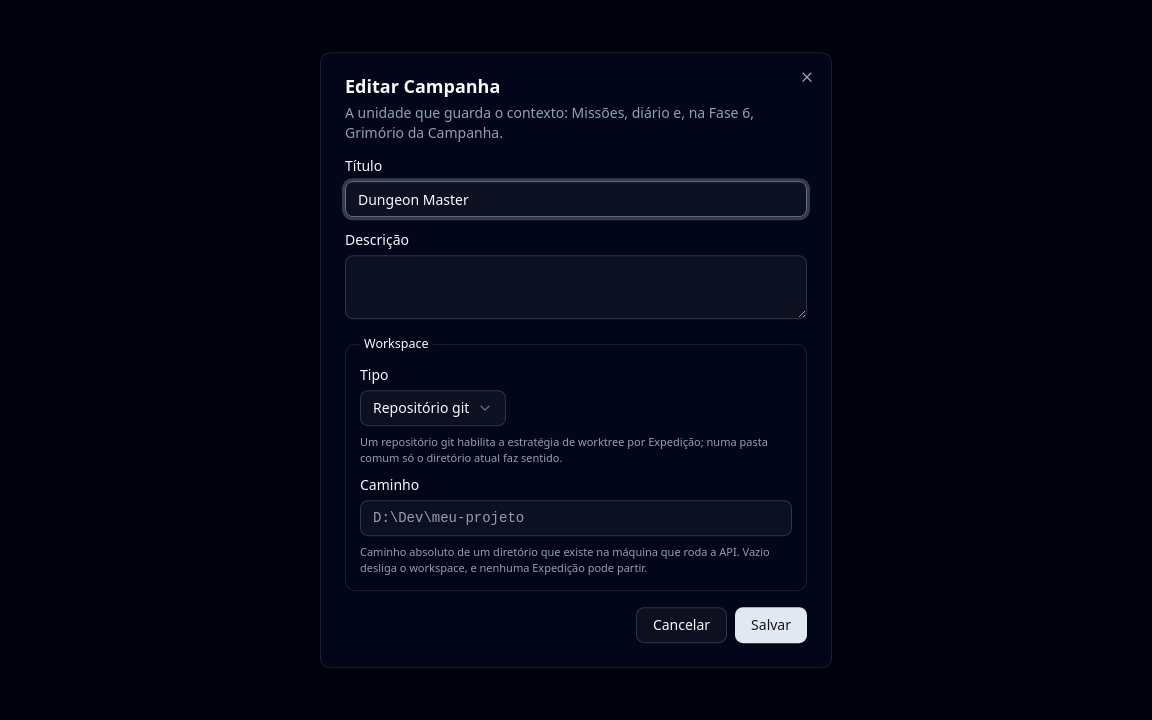
diálogo de Project › recusa um caminho relativo sem ir ao servidor
Type "./repos/forja" into the field labelled "Caminho" at (576, 518), box [360,500,792,536]
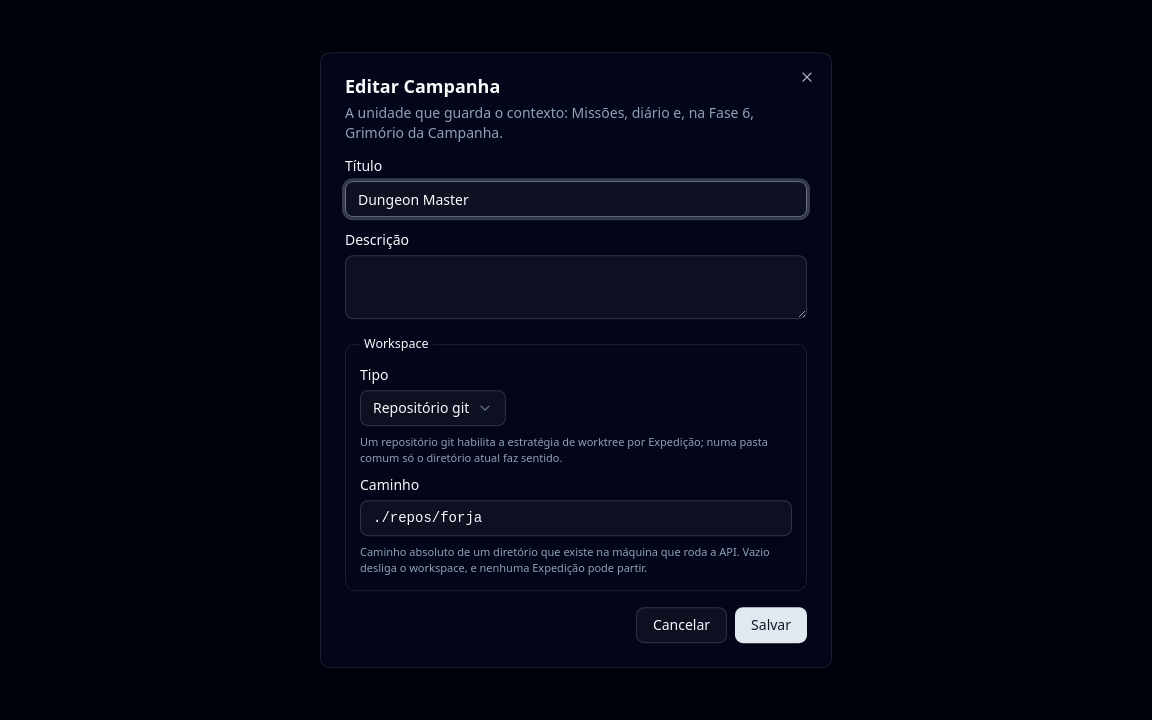
Click the button "Salvar" at (771, 625), box [735,607,807,643]
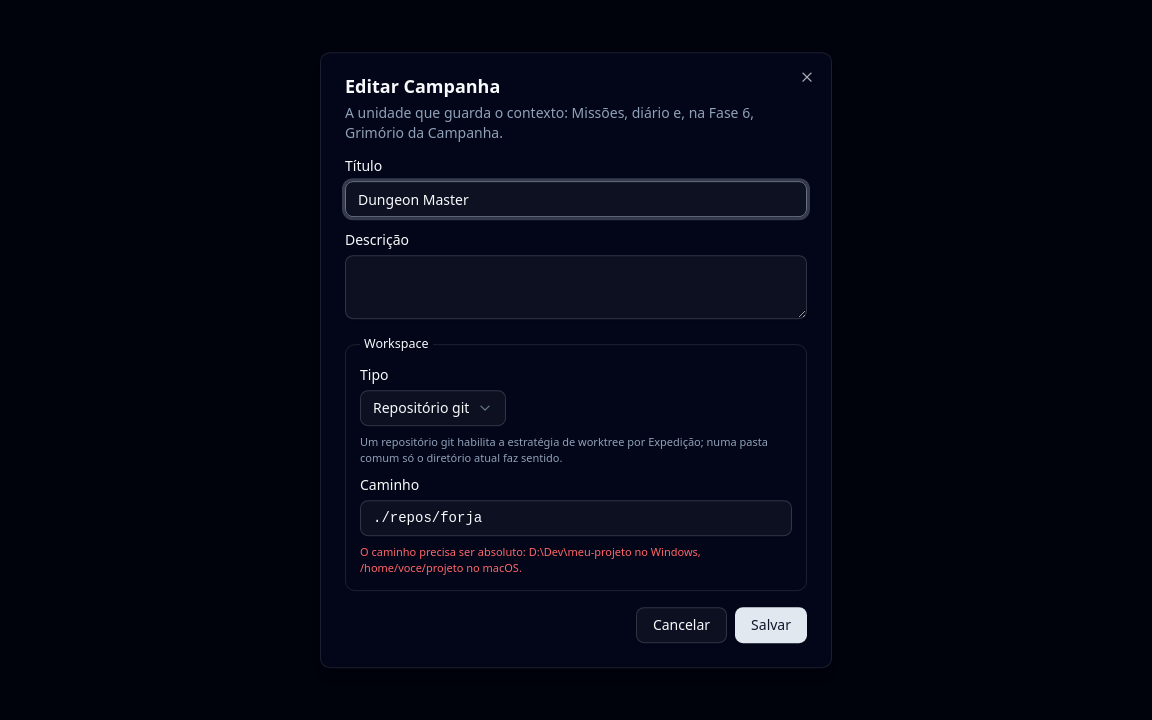
Expected: the message shows "precisa ser absoluto", [360,544,701,575]
